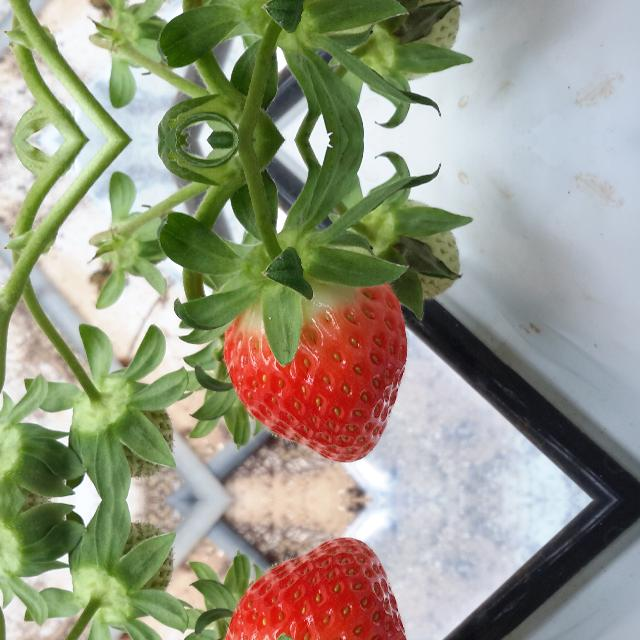Health_100: (225, 275, 408, 463), (224, 537, 407, 640)
